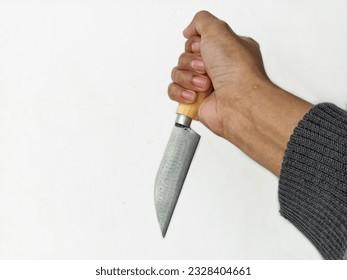Knife: (169, 10, 347, 259), (169, 11, 266, 132), (153, 104, 200, 239)
